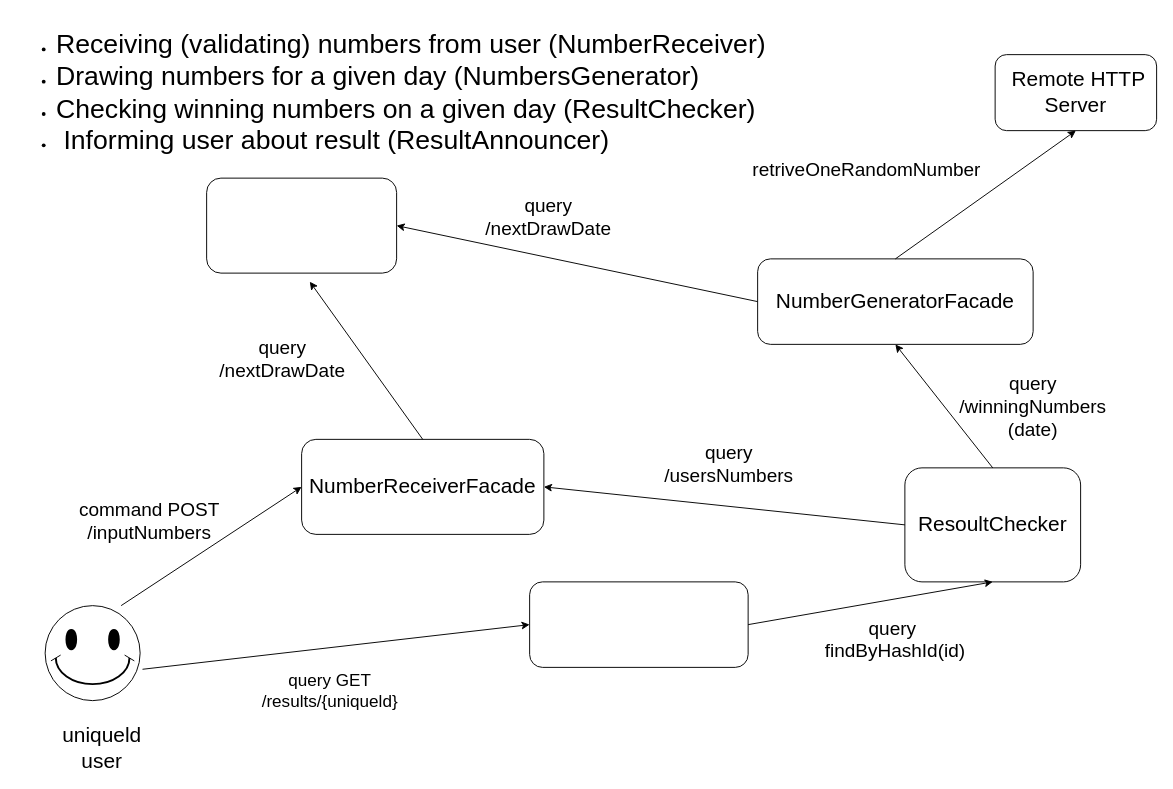
This 1173x789 diagram has some shape labels left out. Here are the shapes that lost their labels. From the top down, the box of each, then its label:
(206, 177, 397, 273): DrawDateFacade
(529, 581, 748, 667): ResoultAnnouncer
